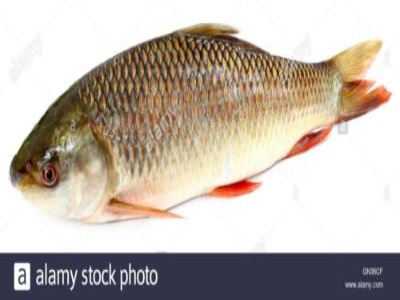rohu: (11, 19, 393, 223)
